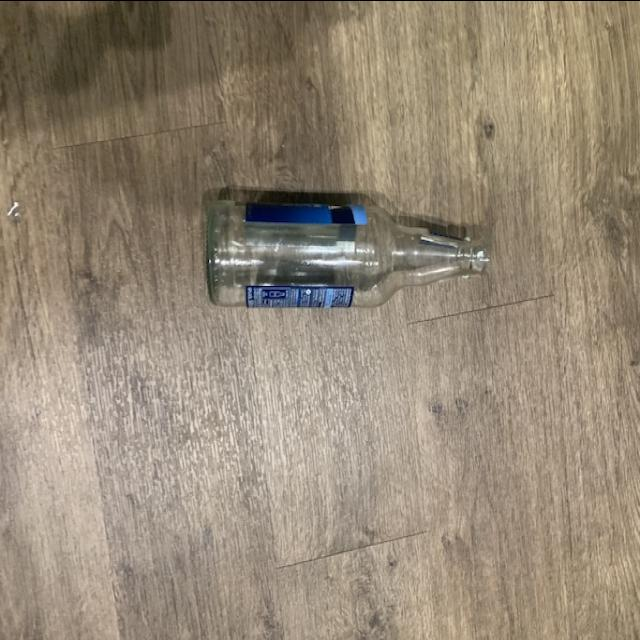Glass Bottle: (204, 185, 488, 313)
